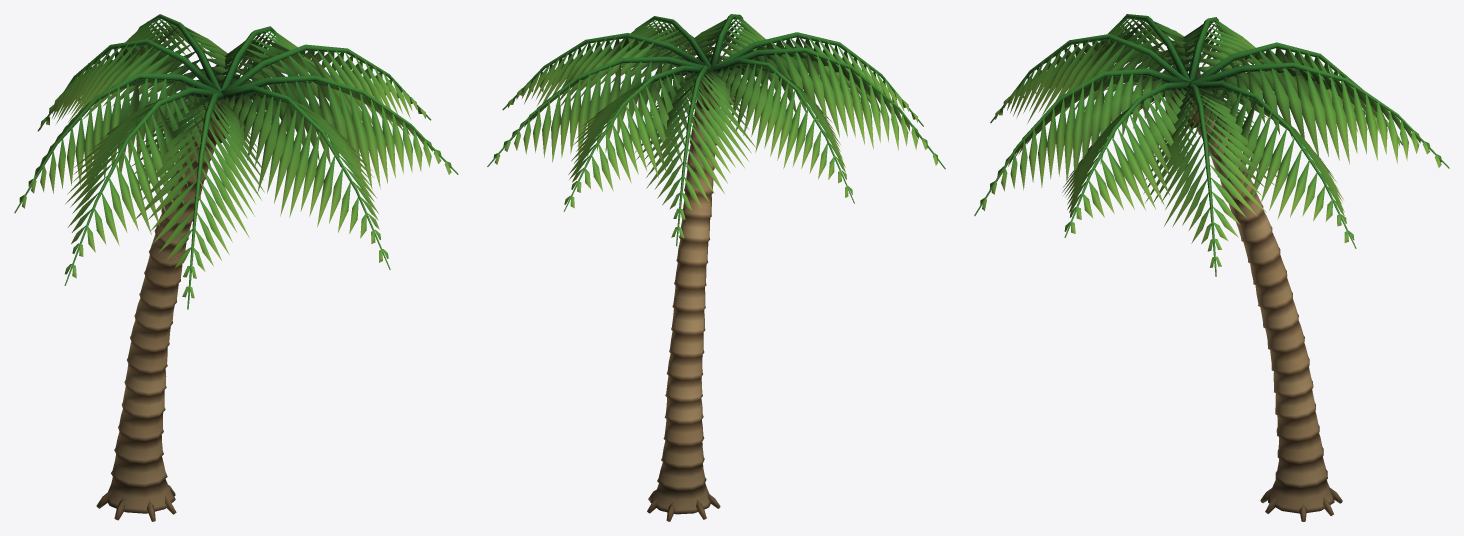
File: tree-palm-v1.glb
3 renders of one model, left to right at view 1: azimuth 30°, elevation 25°; view 2: azimuth 150°, elevation 25°; view 3: azimuth 270°, elevation 25°, orthographic. The views are drawn at different scales.
Parts seen in each view (by area): view 1: 1_leaves, 0_trunk; view 2: 1_leaves, 0_trunk; view 3: 1_leaves, 0_trunk.
Boxes of the visible parts, x1,y1,x2,y2 form: 1_leaves: [14, 14, 458, 309]; 0_trunk: [96, 99, 230, 521]; 1_leaves: [487, 14, 945, 246]; 0_trunk: [647, 74, 720, 521]; 1_leaves: [974, 14, 1449, 276]; 0_trunk: [1196, 111, 1342, 521].
Bounding box in the file's own units: 5.55 × 5.86 × 5.45.
